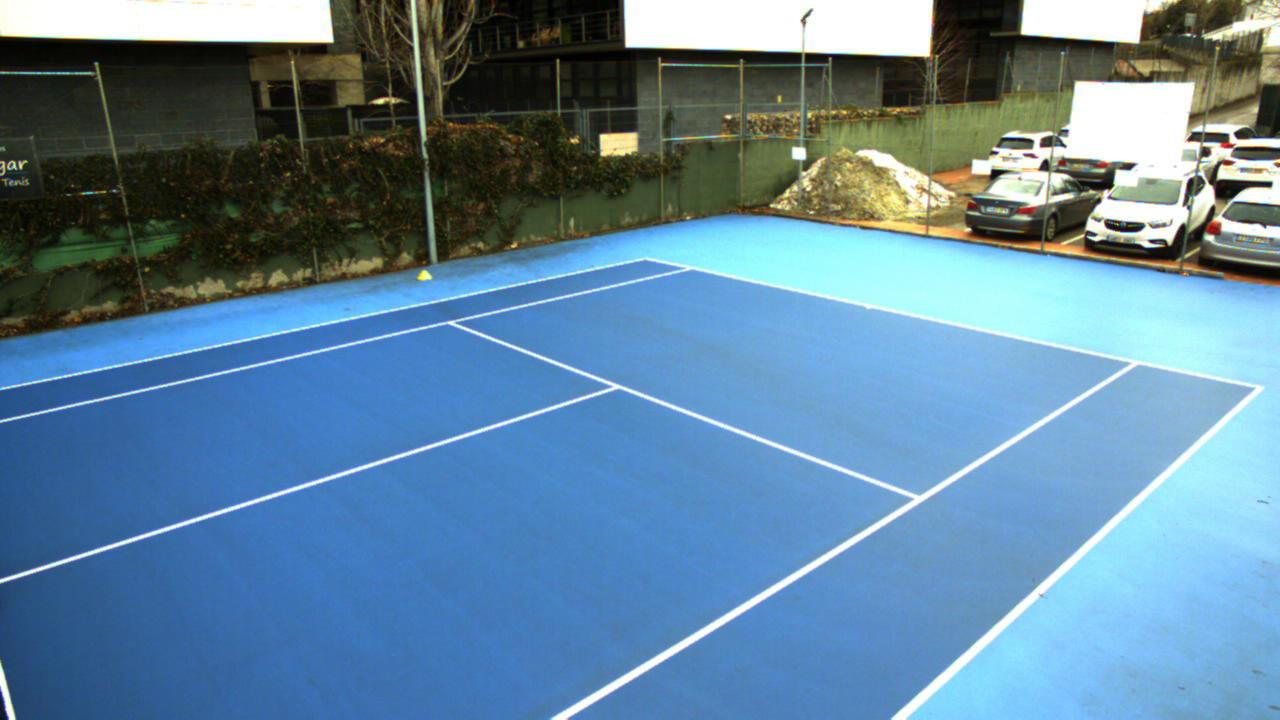cancha_tenis: (0, 258, 1140, 720)
point_f1: (675, 259, 698, 277)
point_f2: (1116, 347, 1149, 378)
point_fc1: (859, 299, 877, 317)
point_i1: (438, 312, 462, 333)
point_i2: (896, 480, 933, 513)
point_ic1: (595, 374, 632, 399)
